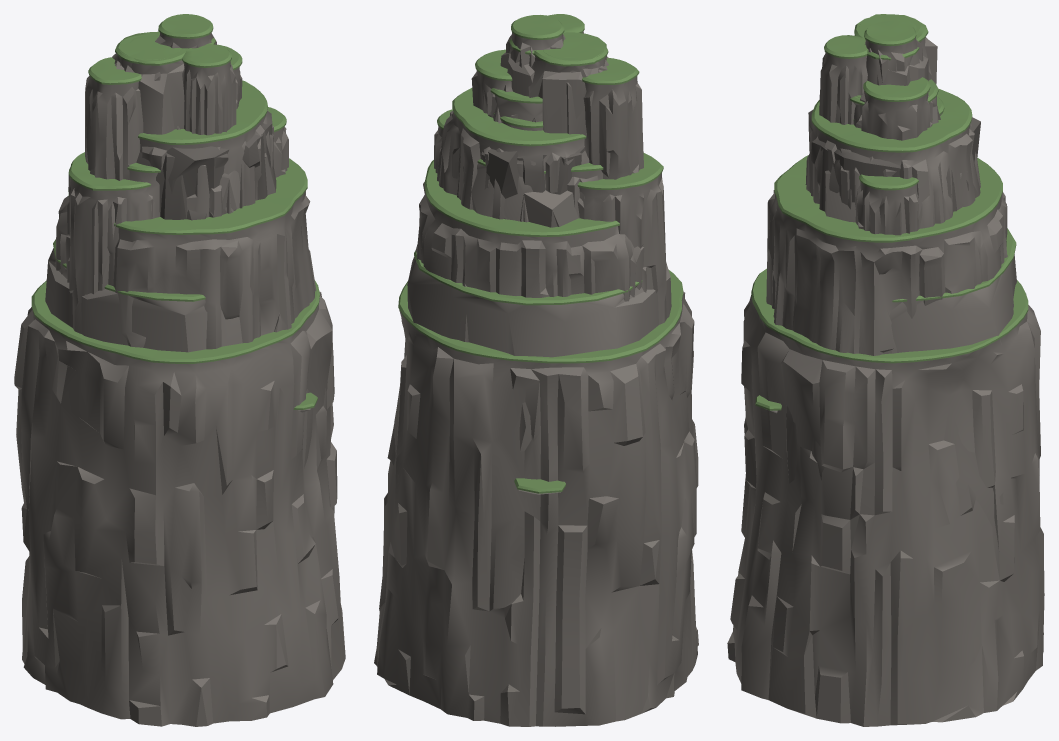
The model's file is Karst.fbx.
The picture shows the model from 3 angles, left to right: view 1: azimuth 30°, elevation 25°; view 2: azimuth 150°, elevation 25°; view 3: azimuth 270°, elevation 25°; orthographic projection.
Parts seen in each view (by area): view 1: Karst_Tower, Karst_Mesa, Karst_Arch, KarstFar_Tower, Karst_Mesa_Green, Karst_Tower_Green, Karst_Trio, KarstFar_Twin, Karst_Trunk, Karst_Arch_Green, KarstFar_Trunk, Karst_Spire_Green (+6 smaller); view 2: Karst_Tower, Karst_Mesa, KarstFar_Tower, Karst_Arch, Karst_Mesa_Green, Karst_Tower_Green, KarstFar_Twin, Karst_Arch_Green, KarstFar_Tower_Green, KarstFar_Trunk, Karst_Twin, Karst_Spire_Green (+7 smaller); view 3: Karst_Tower, Karst_Mesa, KarstFar_Tower, Karst_Mesa_Green, Karst_Tower_Green, Karst_Arch, Karst_Trio, Karst_Leaning, KarstFar_Trunk, Karst_Trunk, Karst_Spire_Green, Karst_Spire (+6 smaller).
Part boxes in pixels (x1,y1,x2,y2): Karst_Tower: (14,99,345,726); Karst_Mesa: (55,110,326,468); Karst_Arch: (67,76,288,333); KarstFar_Tower: (45,126,276,352); Karst_Mesa_Green: (68,80,307,234); Karst_Tower_Green: (31,280,319,409); Karst_Trio: (182,61,236,135); KarstFar_Twin: (114,55,184,134); Karst_Trunk: (160,134,273,220); Karst_Arch_Green: (68,57,286,190); KarstFar_Trunk: (136,111,272,216); Karst_Spire_Green: (158,14,213,38); Karst_Tower: (374,114,698,726); Karst_Mesa: (415,111,644,342); KarstFar_Tower: (394,95,671,603); Karst_Arch: (434,76,666,324); Karst_Mesa_Green: (424,88,619,236); Karst_Tower_Green: (398,269,683,493); KarstFar_Twin: (528,56,608,133); Karst_Arch_Green: (437,57,663,189); KarstFar_Tower_Green: (414,88,642,305); KarstFar_Trunk: (463,146,584,198); Karst_Twin: (566,57,608,218); Karst_Spire_Green: (493,15,564,127); Karst_Tower: (727,105,1044,726); Karst_Mesa: (766,123,1013,483); KarstFar_Tower: (806,96,1016,526); Karst_Mesa_Green: (774,89,1002,242); Karst_Tower_Green: (751,95,1028,410); Karst_Arch: (855,182,922,235); Karst_Trio: (819,52,867,124); Karst_Leaning: (859,91,932,140); KarstFar_Trunk: (808,110,980,202); Karst_Trunk: (809,126,957,211); Karst_Spire_Green: (853,20,944,120); Karst_Spire: (865,37,942,115).
Size of the model in its own units: 216 by 461 by 210.
